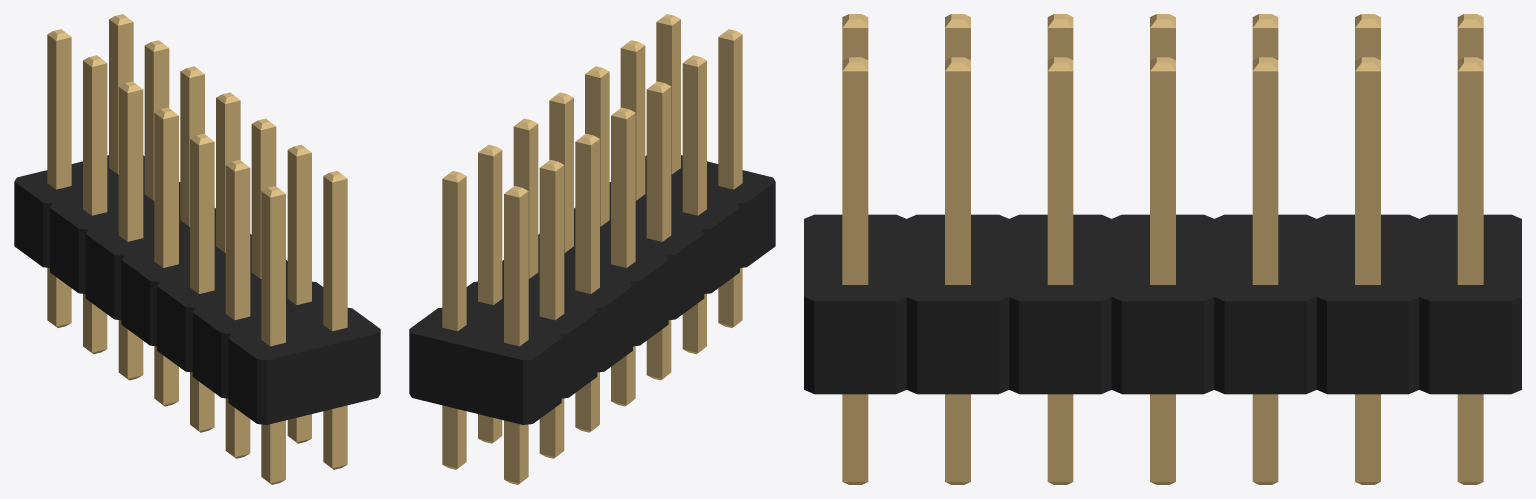
The model's file is PinHeader_2x07_P2.54mm_Vertical.glb.
The picture shows the model from 3 angles, left to right: view 1: azimuth 30°, elevation 25°; view 2: azimuth 150°, elevation 25°; view 3: azimuth 270°, elevation 25°; orthographic projection. The views are drawn at different scales.
Visible parts, largest first — view 1: =>[0:1:1:3]; view 2: =>[0:1:1:3]; view 3: =>[0:1:1:3].
Part boxes in pixels (left/top/right/bottom): =>[0:1:1:3]: left=14, top=14, right=380, bottom=484; =>[0:1:1:3]: left=409, top=14, right=775, bottom=484; =>[0:1:1:3]: left=804, top=14, right=1521, bottom=484.
Size of the model in its own units: 0.00508 by 0.0115 by 0.0178.
